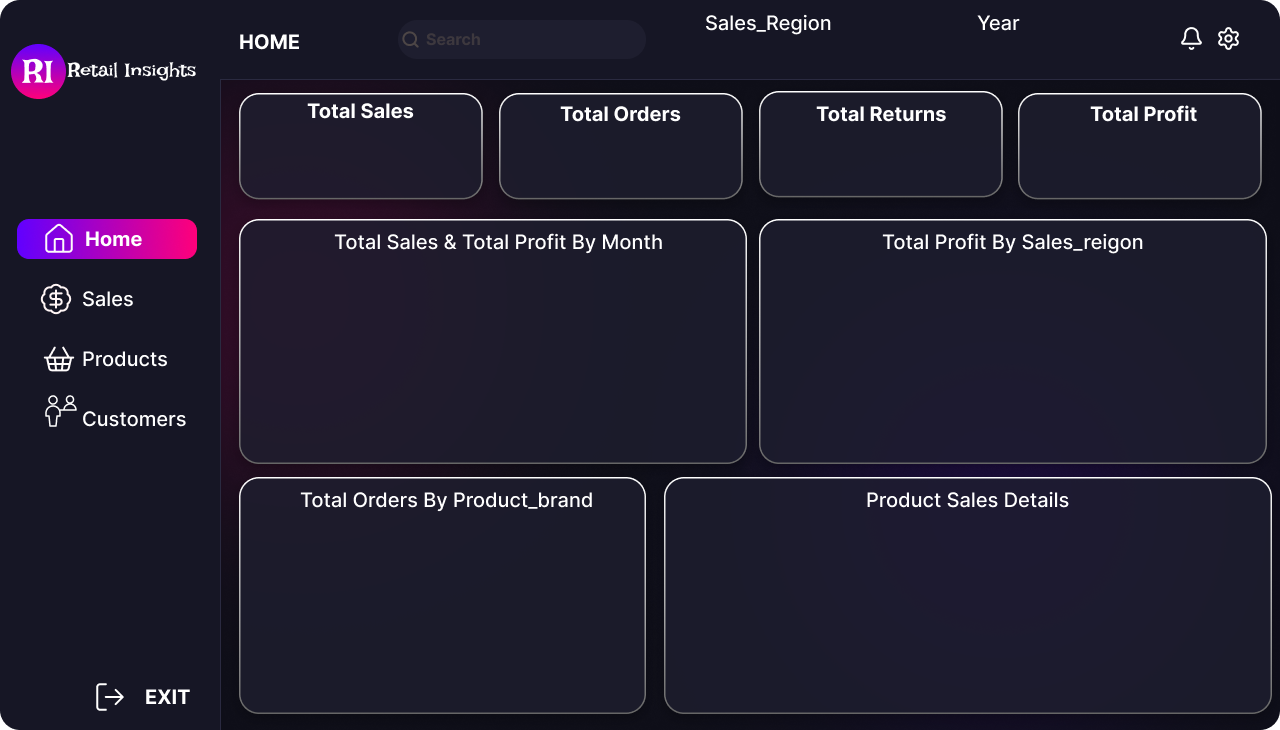

The dashboard page shown, as its layout file describes it:
{"tool":"powerbi","page":{"name":"home","canvas":[1280,720],"ordinal":0},"visuals":[{"type":"card","fields":{"Values":["Dax.Total Sales"]},"box":[256,110.7,203.6,71.4],"z":0},{"type":"card","fields":{"Values":["Dax.Total Orders"]},"box":[523.8,110.7,185.7,76.2],"z":1000},{"type":"card","fields":{"Values":["Dax.Total Returns"]},"box":[785.7,113.1,201.2,73.8],"z":2000},{"type":"card","fields":{"Values":["Dax.Total Profit"]},"box":[1040.5,113.1,200,73.8],"z":3000},{"type":"lineStackedColumnComboChart","fields":{"Y":["Dax.Total Sales"],"Y2":["Dax.Total Profit"],"Category":["retaildb calendar.date.Variation.Date Hierarchy.Month"]},"box":[242.9,244,500,211.9],"z":4000},{"type":"donutChart","fields":{"Category":["retaildb region.sales_region"],"Y":["Dax.Total Profit"]},"box":[760.7,244,506,211.9],"z":5000},{"type":"slicer","fields":{"Values":["retaildb calendar.date.Variation.Date Hierarchy.Year"]},"box":[916.7,23.8,173.8,40.5],"z":6000},{"type":"slicer","fields":{"Values":["retaildb region.sales_region"]},"box":[681,23.8,185.7,40.5],"z":7000},{"type":"clusteredColumnChart","fields":{"Y":["Dax.Total Orders"],"Series":["retaildb products.product_brand"]},"box":[242.9,496.4,397.6,209.5],"z":8000},{"type":"tableEx","fields":{"Values":["retaildb products.product_name","Dax.Total Sales","Dax.Total Quantity","Dax.Total Profit"]},"box":[670.2,496.4,585.7,209.5],"z":9000}]}

Visuals, with their boxes on the page's 1280x720 design canvas (x1, y1, x2, y2). These are canvas units, not pixel positions in the 1280x730 screenshot, which may show the page scaled, cropped or inside an application window:
card - Dax.Total Sales: [left=256, top=111, right=460, bottom=182]
card - Dax.Total Orders: [left=524, top=111, right=710, bottom=187]
card - Dax.Total Returns: [left=786, top=113, right=987, bottom=187]
card - Dax.Total Profit: [left=1040, top=113, right=1240, bottom=187]
lineStackedColumnComboChart - Dax.Total Sales x Dax.Total Profit: [left=243, top=244, right=743, bottom=456]
donutChart - retaildb region.sales_region x Dax.Total Profit: [left=761, top=244, right=1267, bottom=456]
slicer - retaildb calendar.date.Variation.Date Hierarchy.Year: [left=917, top=24, right=1090, bottom=64]
slicer - retaildb region.sales_region: [left=681, top=24, right=867, bottom=64]
clusteredColumnChart - Dax.Total Orders x retaildb products.product_brand: [left=243, top=496, right=640, bottom=706]
tableEx - retaildb products.product_name x Dax.Total Sales: [left=670, top=496, right=1256, bottom=706]
